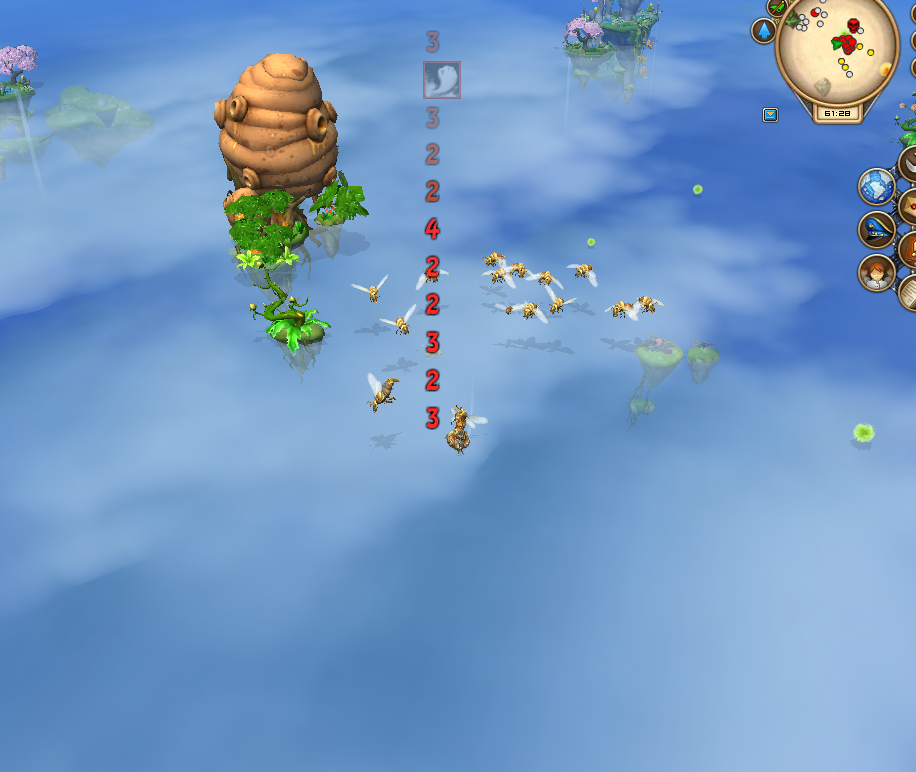dandelion-empty: (251, 266, 329, 372)
fluff: (843, 419, 881, 454), (581, 231, 600, 254), (689, 178, 706, 202)
